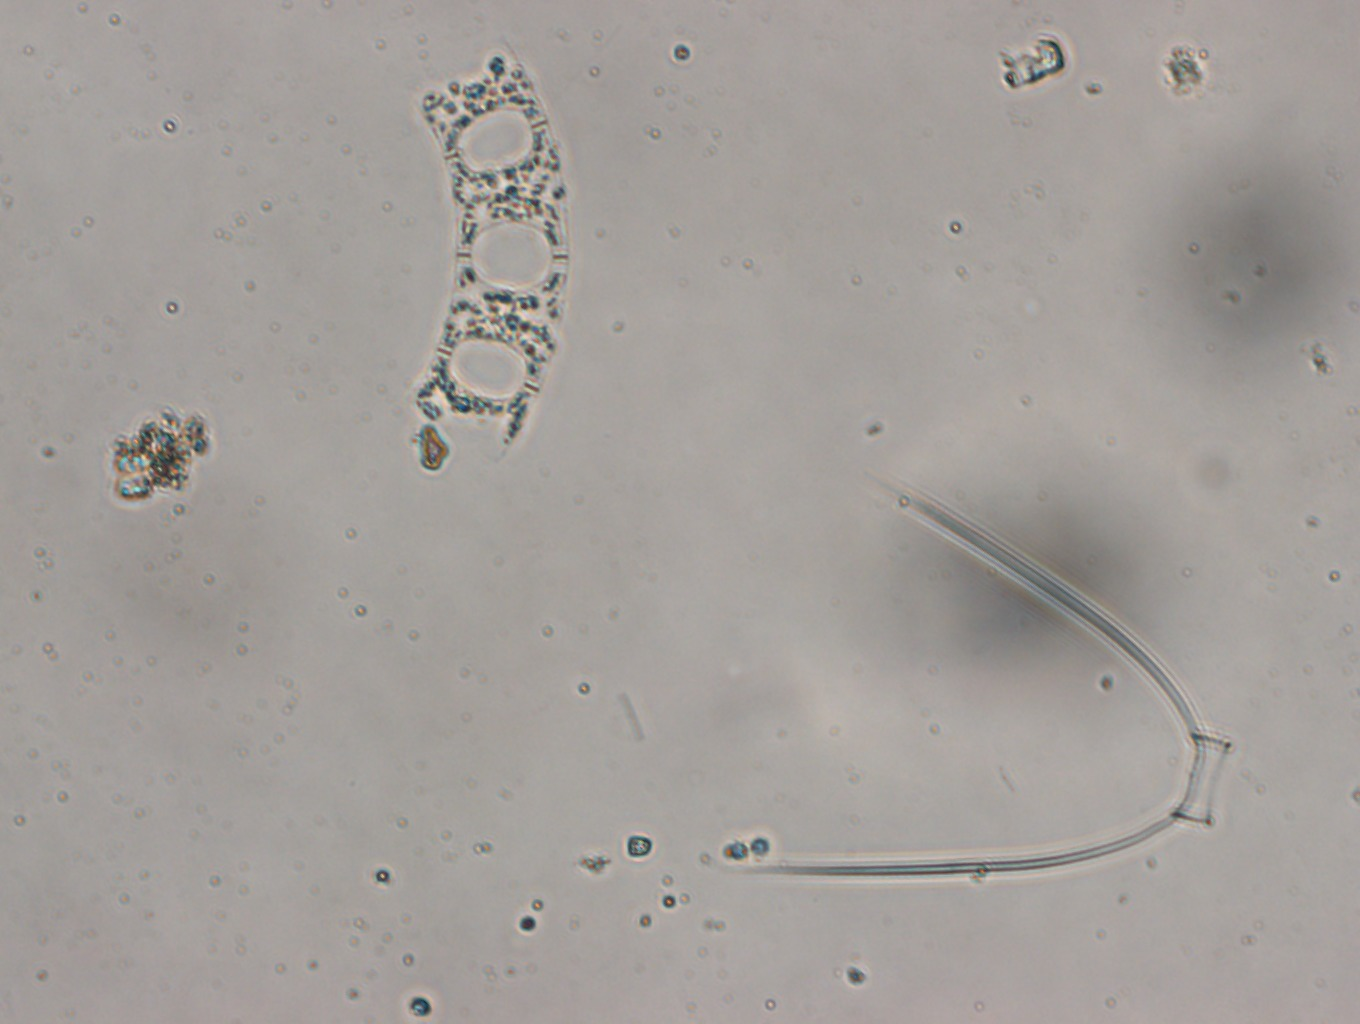chaetoceros: (746, 474, 1230, 881)
eucampia: (415, 40, 567, 456)
